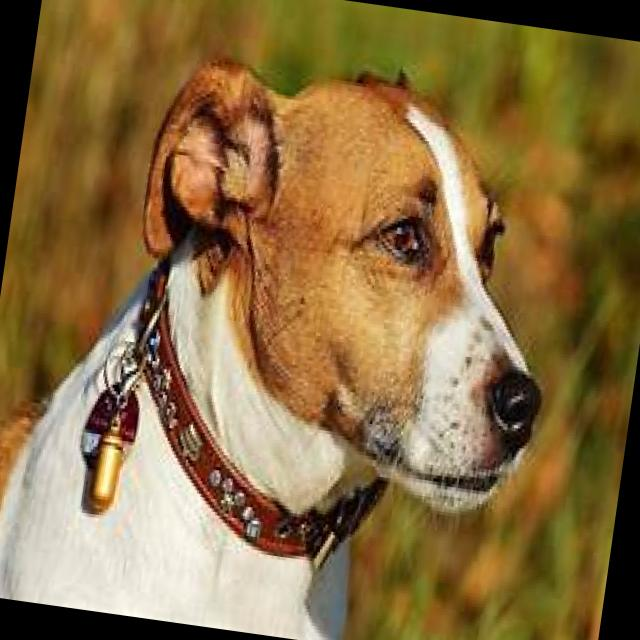animal: (0, 13, 587, 640)
